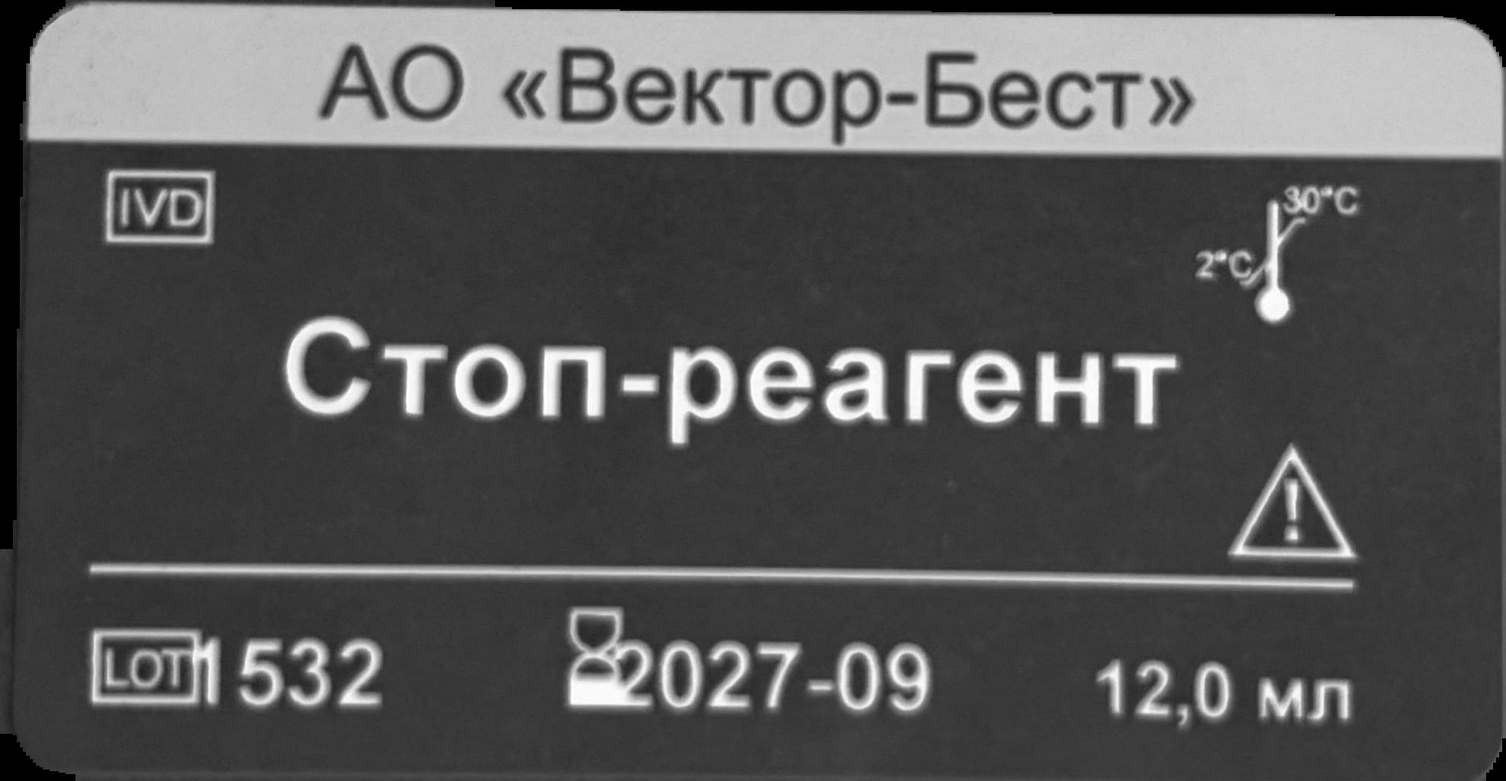something: (1192, 174, 1363, 333), (1223, 441, 1357, 567), (101, 165, 216, 252), (86, 627, 204, 706), (564, 604, 632, 707)
text: (281, 311, 1184, 447), (317, 32, 1197, 145), (619, 641, 941, 720), (1095, 661, 1361, 733), (194, 630, 391, 716)
